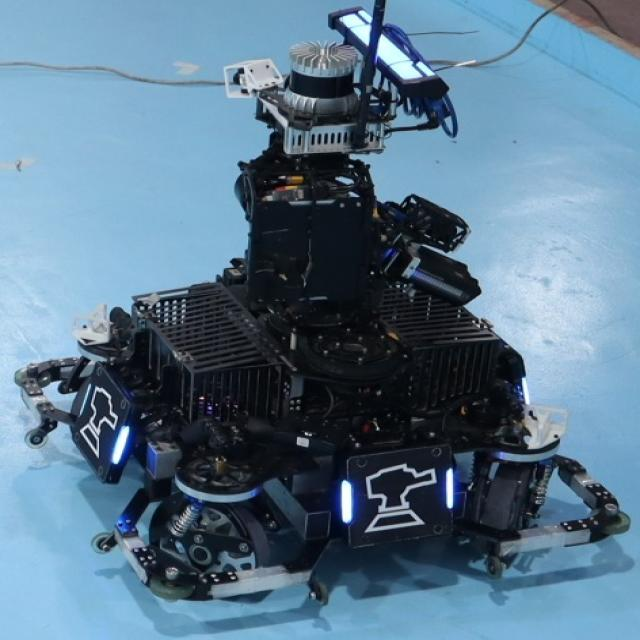Bs: (335, 456, 458, 534), (74, 376, 136, 470)
